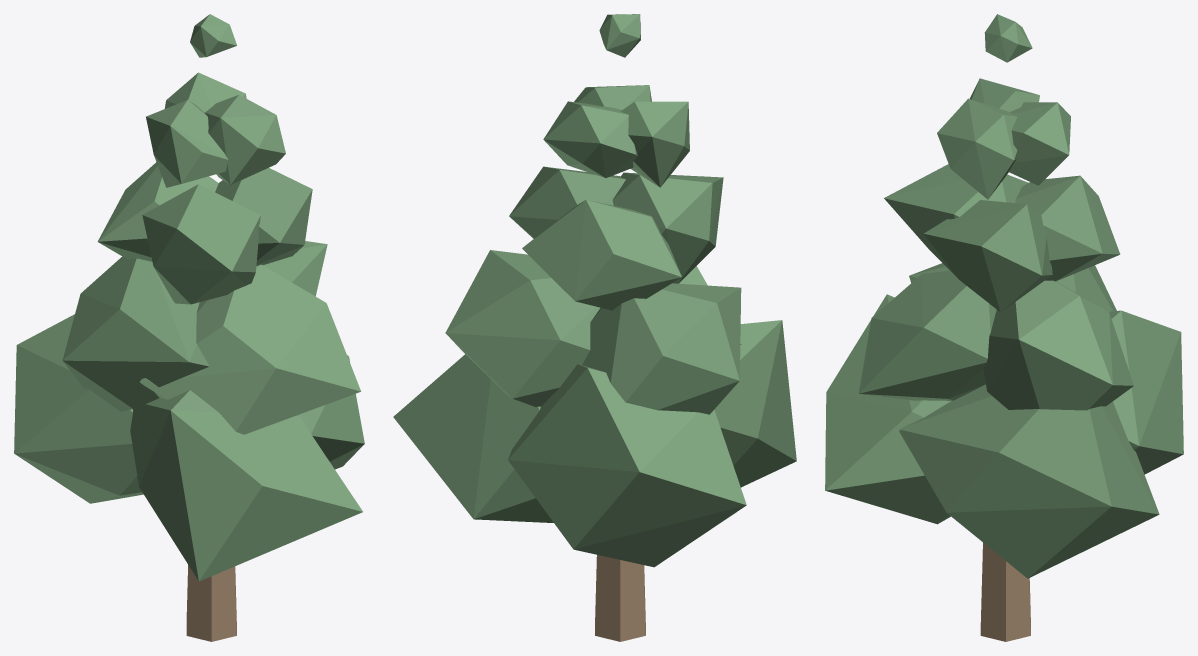
Rendered from tree_genpine1.glb.
The picture shows the model from 3 angles, left to right: view 1: azimuth 30°, elevation 25°; view 2: azimuth 150°, elevation 25°; view 3: azimuth 270°, elevation 25°; orthographic projection.
Parts seen in each view (by area): view 1: hull; view 2: hull; view 3: hull.
Part boxes in pixels (box(x1,y1,x2,y2)): hull: box(14, 14, 364, 641); hull: box(393, 14, 796, 641); hull: box(825, 14, 1183, 641).
Size of the model in its own units: 4.24 by 7.42 by 3.96.
